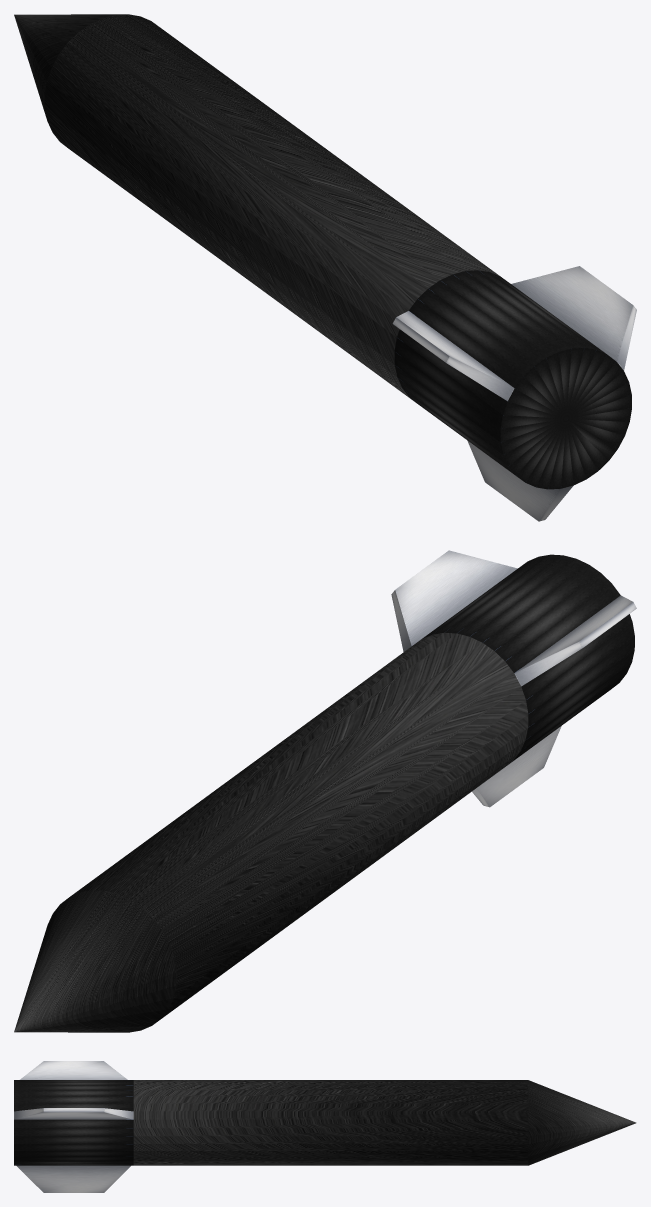
The model's file is missile.obj.
The picture shows the model from 3 angles, top to bottom: view 1: azimuth 30°, elevation 25°; view 2: azimuth 150°, elevation 25°; view 3: azimuth 270°, elevation 25°; orthographic projection. The views are drawn at different scales.
Size of the model in its own units: 0.0996 by 0.0964 by 0.4991.
